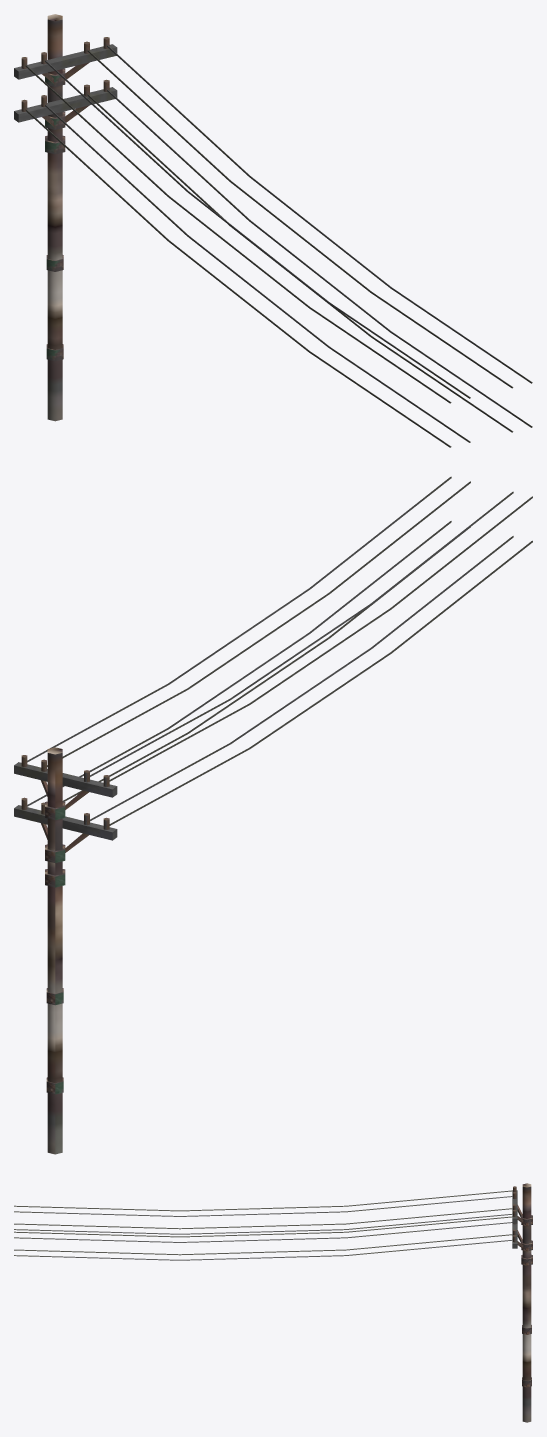
Rendered from Power_Pole.fbx.
The picture shows the model from 3 angles, top to bottom: view 1: azimuth 30°, elevation 25°; view 2: azimuth 150°, elevation 25°; view 3: azimuth 270°, elevation 25°; orthographic projection. The views are drawn at different scales.
Parts seen in each view (by area): view 1: Powerpole_B_B:Powerpole_B_B_0; view 2: Powerpole_B_B:Powerpole_B_B_0; view 3: Powerpole_B_B:Powerpole_B_B_0.
Boxes of the visible parts, x1=… form: Powerpole_B_B:Powerpole_B_B_0: x1=14, y1=14, x2=532, y2=447; Powerpole_B_B:Powerpole_B_B_0: x1=14, y1=476, x2=532, y2=1154; Powerpole_B_B:Powerpole_B_B_0: x1=14, y1=1183, x2=532, y2=1422.
Bounding box in the file's own units: 9.5 × 36.82 × 73.66.
1 material, 1 textured.
